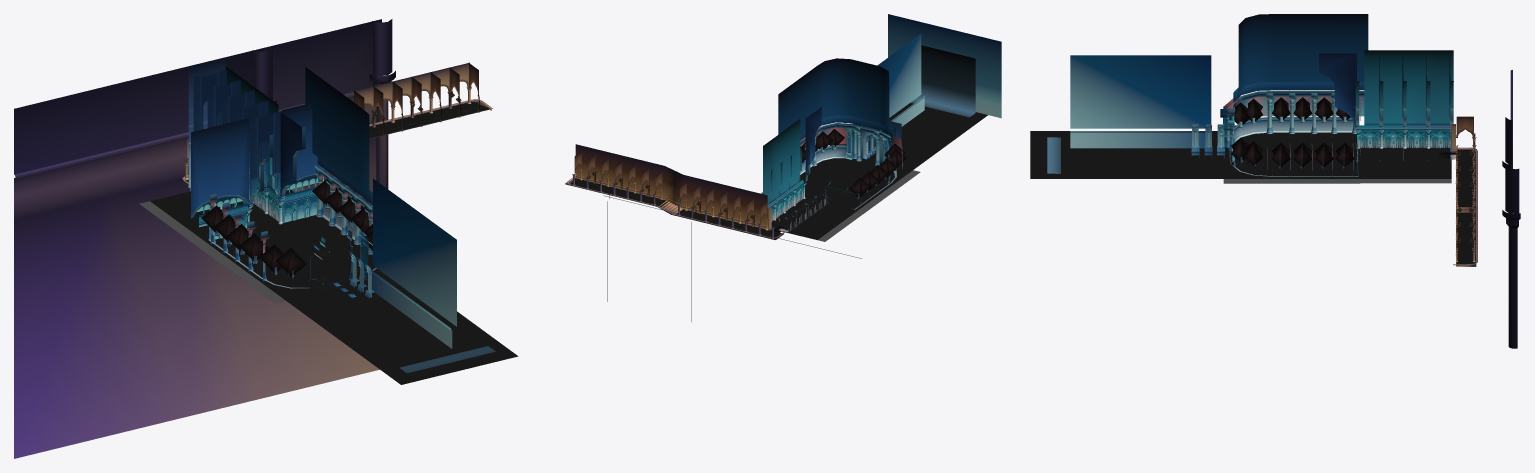
File: 01Start.gltf
3 views of the same model, side by side, from view 1: azimuth 30°, elevation 25°; view 2: azimuth 150°, elevation 25°; view 3: azimuth 270°, elevation 25° (orthographic). The views are drawn at different scales.
Parts seen in each view (by area): view 1: stg070_o10_Mesh_0022, stg070_g01_Mesh_0000, stg070_o10_Mesh_0036, stg070_o01_Mesh_0000, stg070_o10_Mesh_0011, stg070_o01_Mesh_0041, stg070_o03_Mesh_0136, stg070_o11_Mesh_0009, stg070_w01_Mesh_0000, stg070_o01_Mesh_0069, stg070_k03_Mesh_0001, stg070_o10_Mesh_0040; view 2: stg070_g01_Mesh_0000, stg070_o10_Mesh_0022, stg070_o10_Mesh_0036, stg070_o10_Mesh_0011, stg070_k03_Mesh_0001, stg070_o01_Mesh_0000, stg070_o11_Mesh_0009, stg070_o03_Mesh_0136, stg070_o01_Mesh_0069, stg070_w01_Mesh_0000; view 3: stg070_o10_Mesh_0036, stg070_g01_Mesh_0000, stg070_o10_Mesh_0022, stg070_o10_Mesh_0011, stg070_o01_Mesh_0000, stg070_o03_Mesh_0136, stg070_w01_Mesh_0000, stg070_o01_Mesh_0069, stg070_k03_Mesh_0001, stg070_o10_Mesh_0032.
Part boxes in pixels (left/top/right/bottom): stg070_o10_Mesh_0022: left=14, top=19, right=381, bottom=458; stg070_g01_Mesh_0000: left=150, top=93, right=518, bottom=384; stg070_o10_Mesh_0036: left=14, top=66, right=456, bottom=348; stg070_o01_Mesh_0000: left=185, top=73, right=477, bottom=302; stg070_o10_Mesh_0011: left=14, top=62, right=492, bottom=330; stg070_o01_Mesh_0041: left=193, top=70, right=372, bottom=282; stg070_o03_Mesh_0136: left=184, top=19, right=479, bottom=271; stg070_o11_Mesh_0009: left=187, top=62, right=478, bottom=157; stg070_w01_Mesh_0000: left=139, top=187, right=304, bottom=303; stg070_o01_Mesh_0069: left=188, top=58, right=372, bottom=204; stg070_k03_Mesh_0001: left=371, top=92, right=495, bottom=373; stg070_o10_Mesh_0040: left=190, top=168, right=372, bottom=295; stg070_g01_Mesh_0000: left=570, top=103, right=987, bottom=239; stg070_o10_Mesh_0022: left=664, top=14, right=1001, bottom=205; stg070_o10_Mesh_0036: left=575, top=33, right=1001, bottom=225; stg070_o10_Mesh_0011: left=567, top=96, right=1001, bottom=258; stg070_k03_Mesh_0001: left=588, top=45, right=975, bottom=232; stg070_o01_Mesh_0000: left=770, top=107, right=896, bottom=236; stg070_o11_Mesh_0009: left=574, top=151, right=767, bottom=228; stg070_o03_Mesh_0136: left=573, top=135, right=890, bottom=321; stg070_o01_Mesh_0069: left=800, top=84, right=1001, bottom=141; stg070_w01_Mesh_0000: left=761, top=170, right=920, bottom=241; stg070_o10_Mesh_0036: left=1070, top=50, right=1518, bottom=226; stg070_g01_Mesh_0000: left=1030, top=97, right=1476, bottom=264; stg070_o10_Mesh_0022: left=1191, top=14, right=1450, bottom=172; stg070_o10_Mesh_0011: left=1070, top=55, right=1520, bottom=265; stg070_o01_Mesh_0000: left=1191, top=53, right=1471, bottom=266; stg070_o03_Mesh_0136: left=1226, top=105, right=1519, bottom=348; stg070_w01_Mesh_0000: left=1223, top=126, right=1451, bottom=183; stg070_o01_Mesh_0069: left=1233, top=82, right=1364, bottom=103; stg070_k03_Mesh_0001: left=1047, top=137, right=1473, bottom=253; stg070_o10_Mesh_0032: left=1192, top=93, right=1451, bottom=167.
Size of the model in its own units: 185 by 162 by 211.
